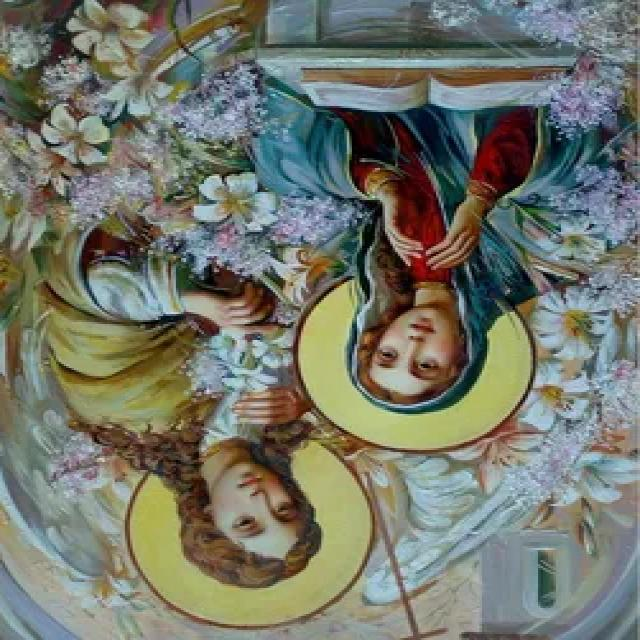mother of god: (248, 75, 617, 428)
